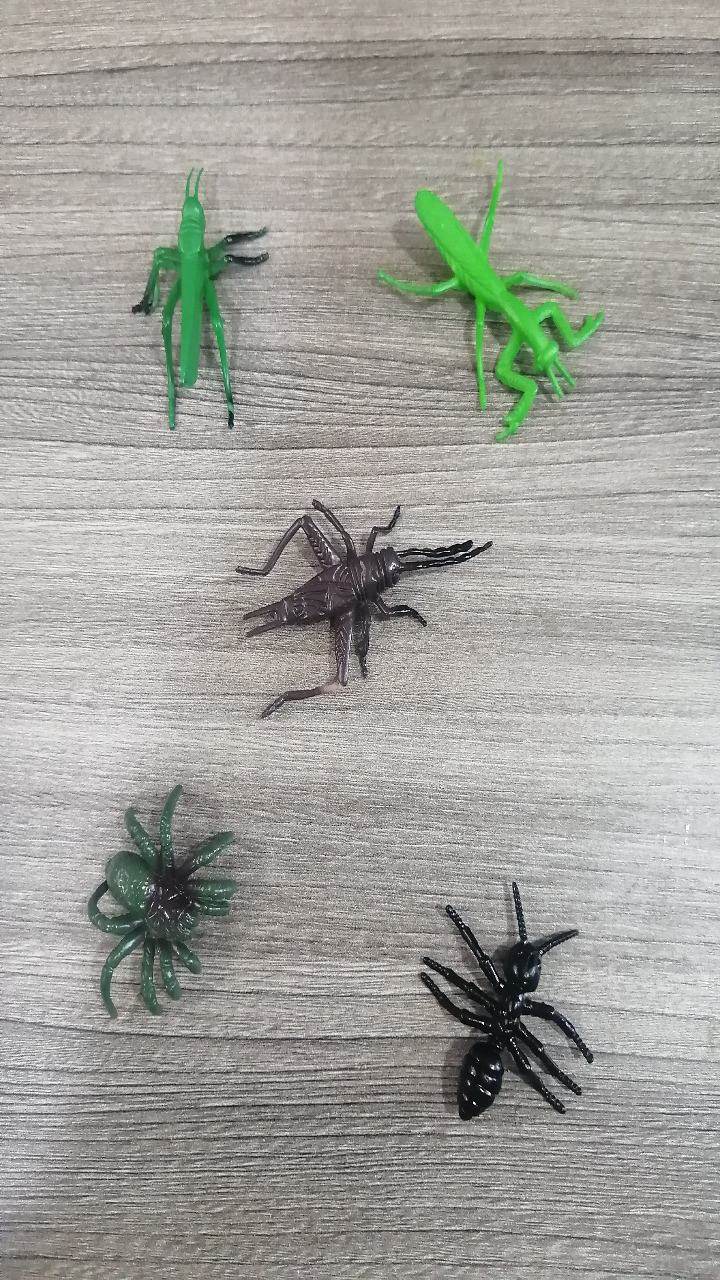intruso: (203, 492, 523, 749), (348, 148, 611, 457), (383, 855, 628, 1146), (84, 162, 275, 455), (49, 762, 261, 1022)
